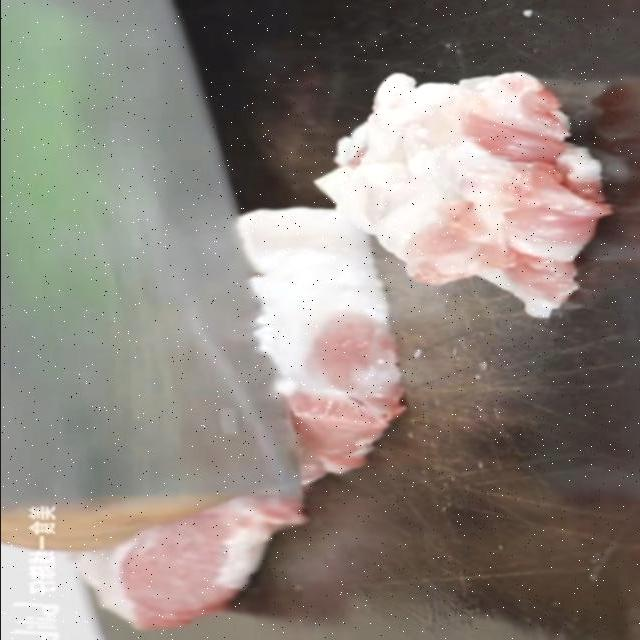pork: (282, 48, 609, 298), (225, 197, 399, 469), (93, 529, 284, 621)
